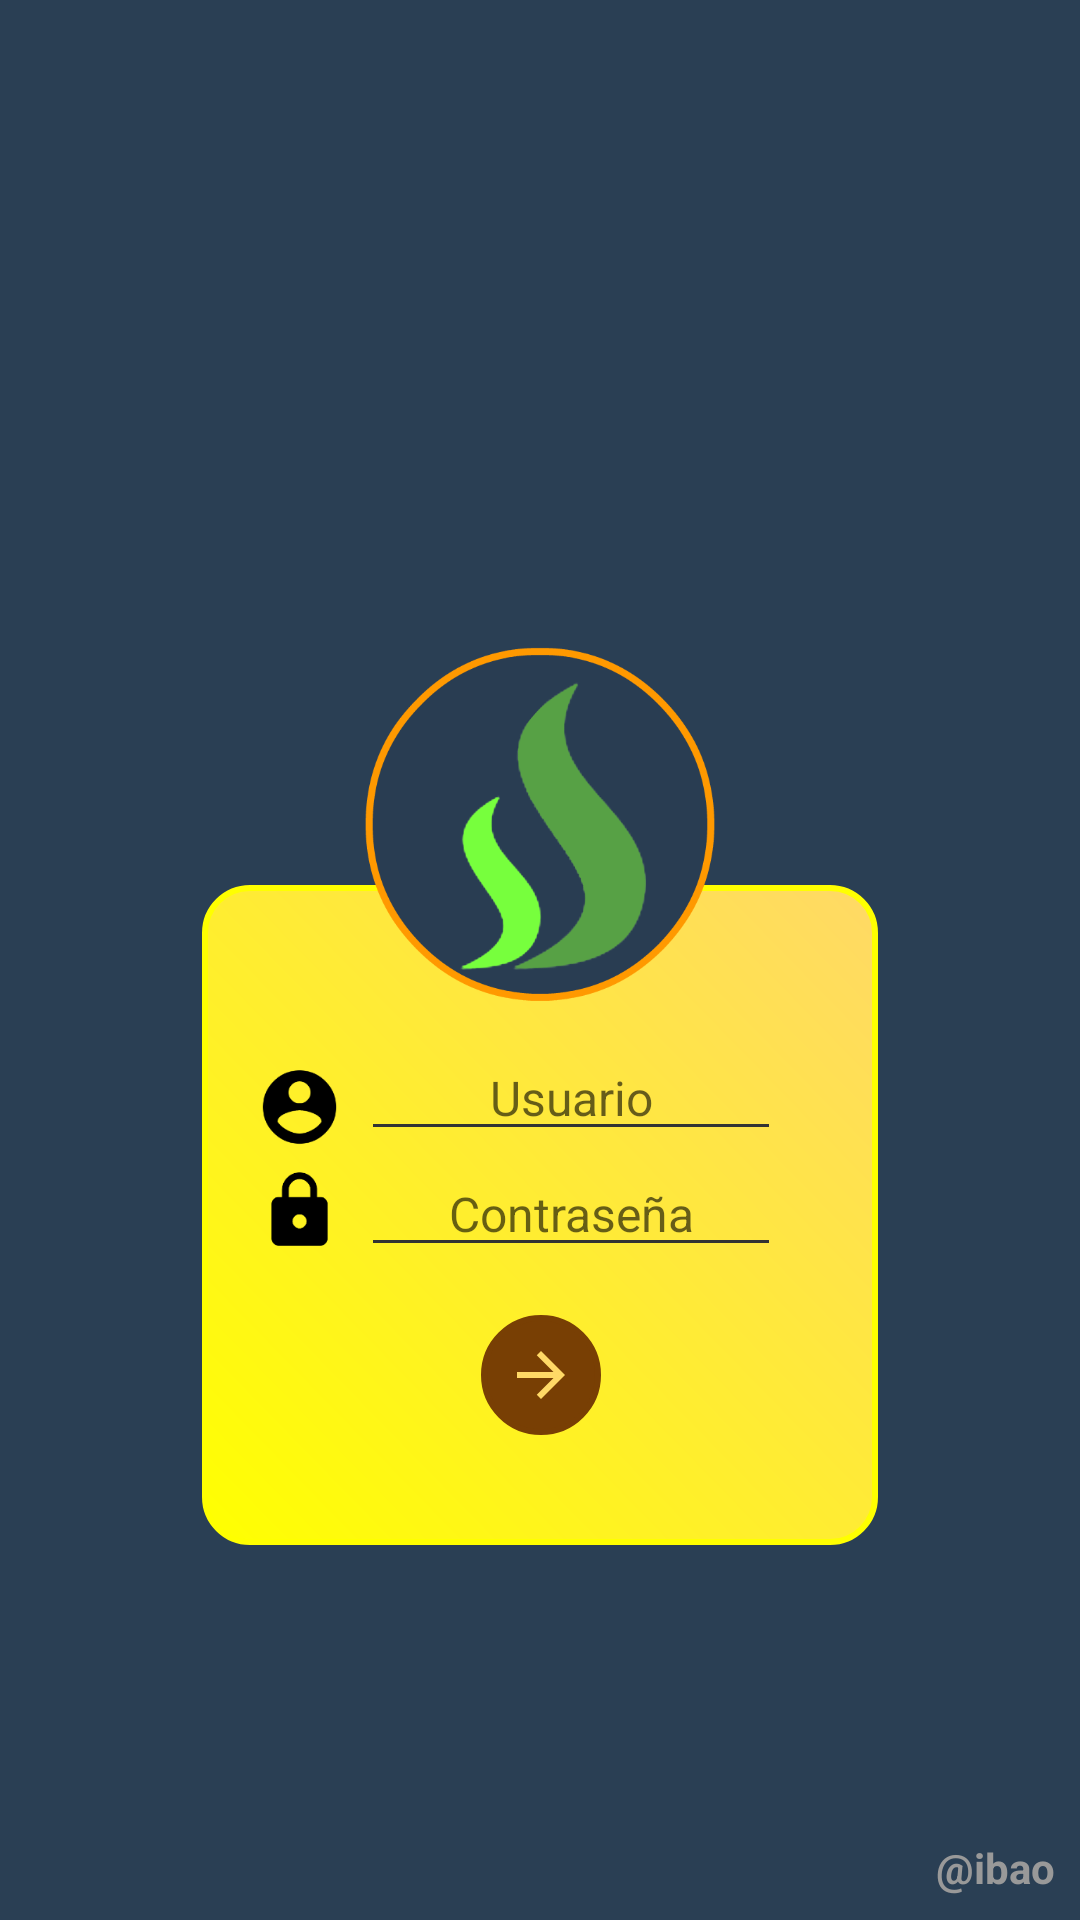

Icon click points for this 1080×1920 phone screenshot, format point (x, y):
account circle: point (299, 1107)
arrow forward: point (541, 1375)
lock: point (299, 1209)
